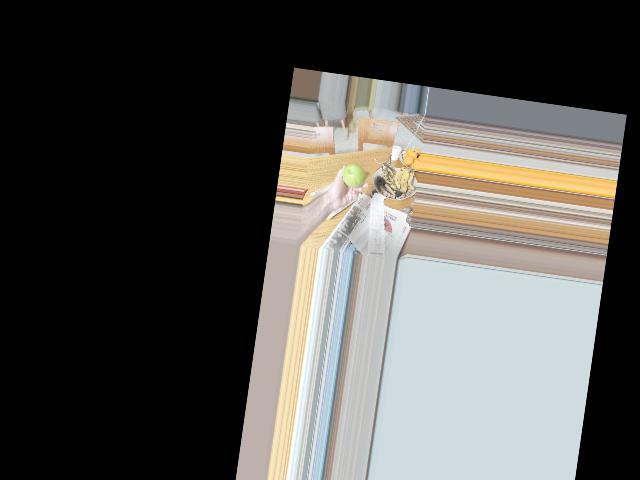apple: (340, 163, 366, 189)
